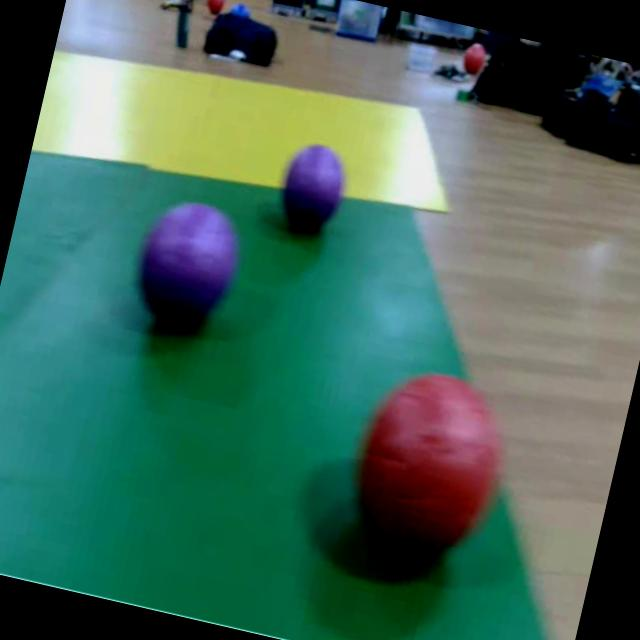purple_ball: (128, 194, 246, 331), (274, 138, 350, 232)
red_ball: (343, 362, 515, 562)
